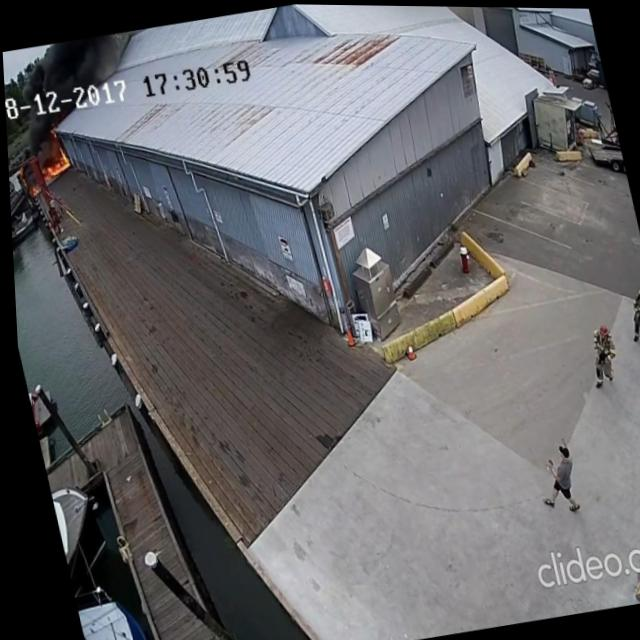fire: (35, 143, 71, 180), (26, 184, 39, 197)
